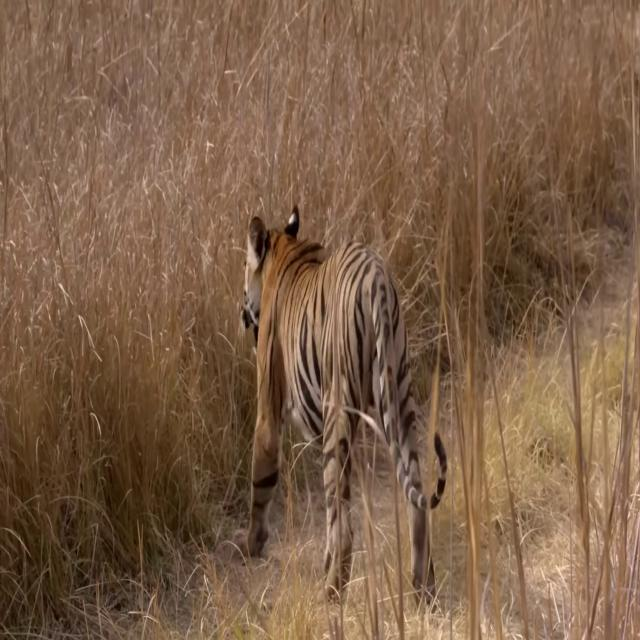tiger: (240, 200, 448, 615)
